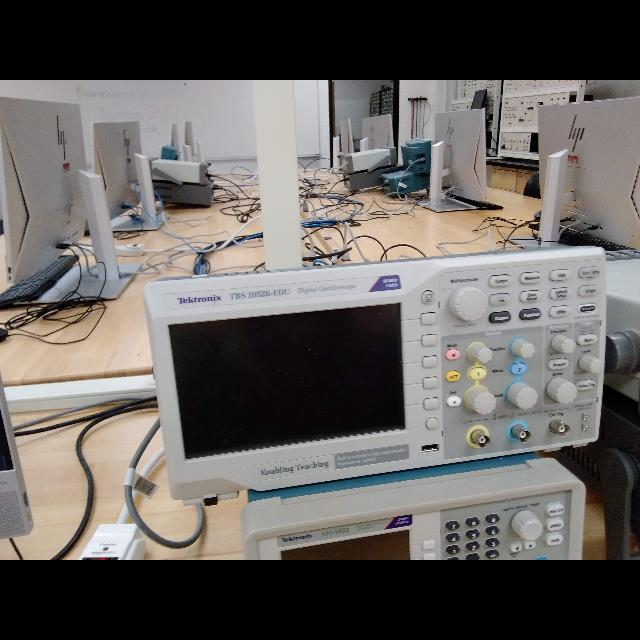Digital-Oscilloscope: (145, 248, 604, 505)
